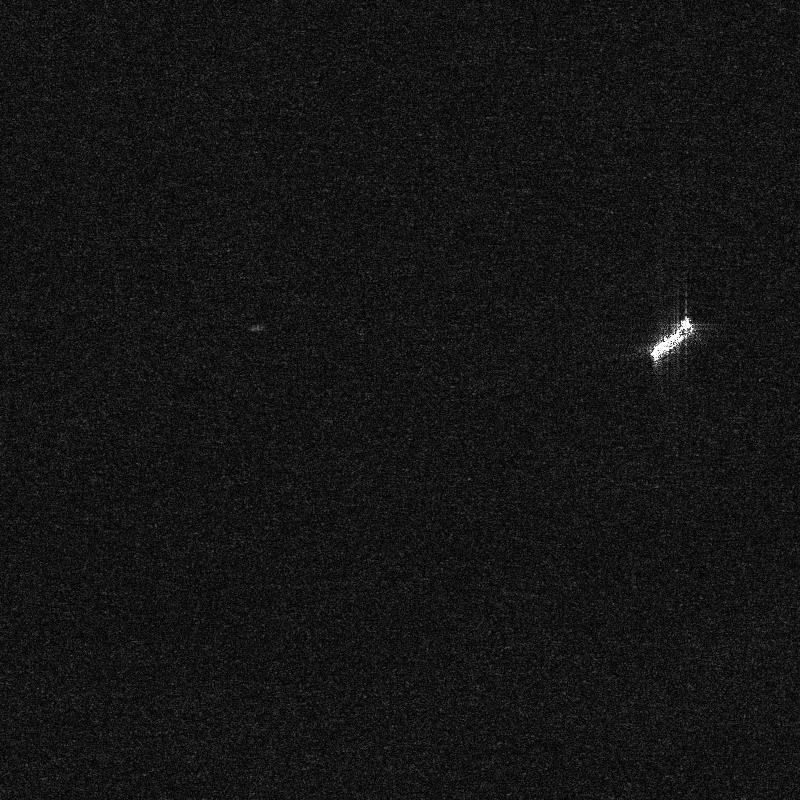ship: (650, 317, 694, 361)
